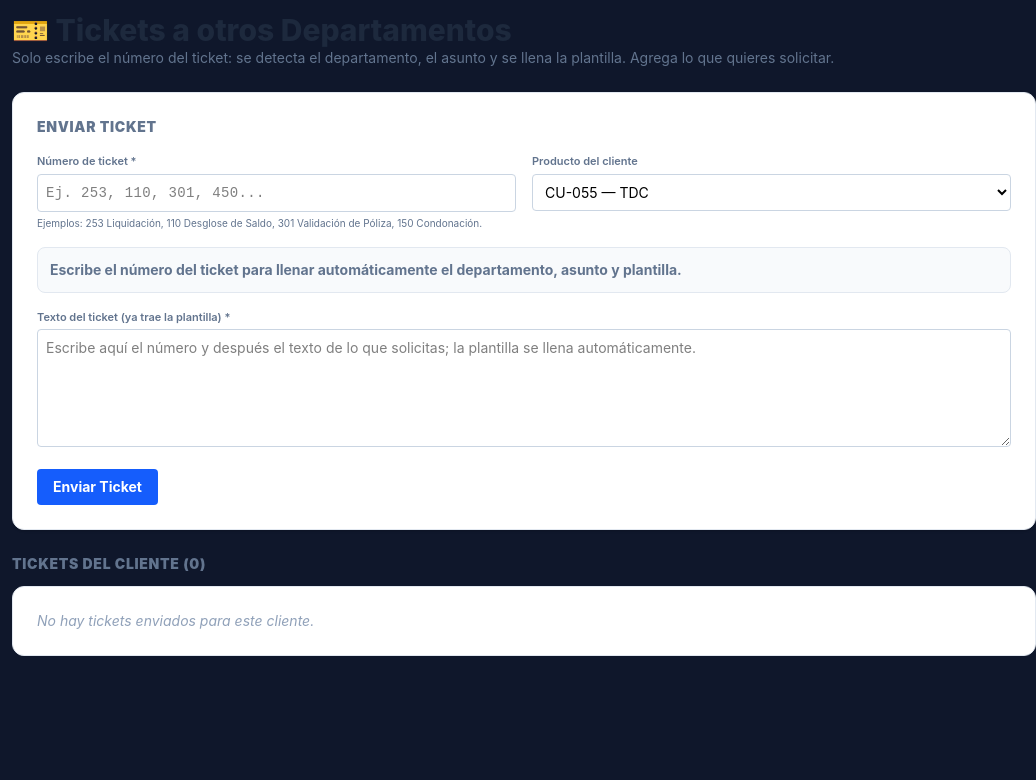
TicketsTab: envio › envia el ticket y confirma con el mensaje de exito
Type "118" into the field with placeholder "Ej. 253, 110, 301, 450...".
click(276, 192); type("118")  # box [37,174,516,212]
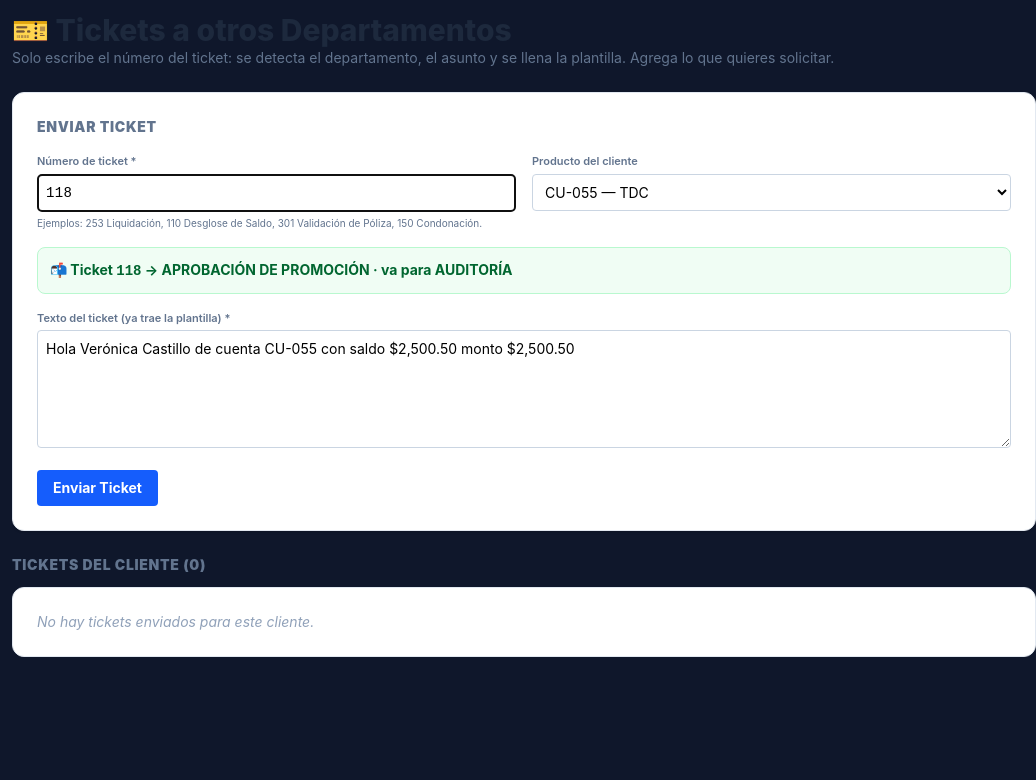
Click the button "Enviar Ticket".
click(98, 488)  # box [37,470,158,506]
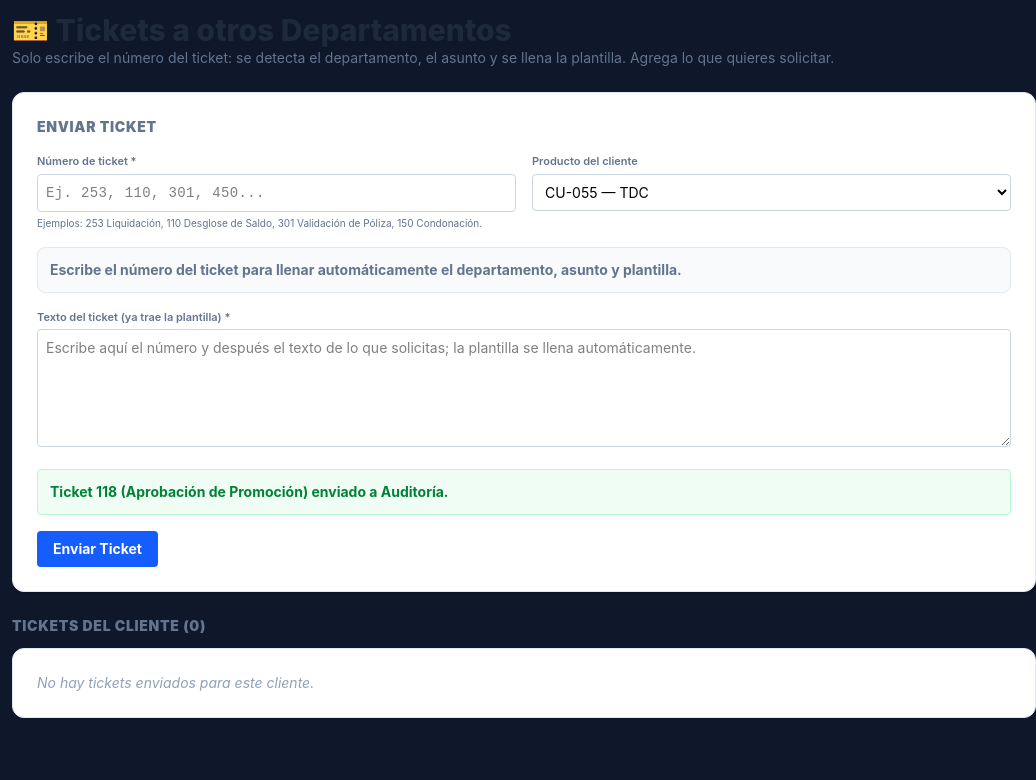
expect the text "Ticket 118 (Aprobación de Promoción) enviado a Auditoría." is shown: met, box [37,469,1011,515]
expect the field with placeholder "Ej. 253, 110, 301, 450..." is empty: met, box [37,174,516,212]
expect the text box with placeholder "Escribe aquí el número" is empty: met, box [37,329,1011,447]
